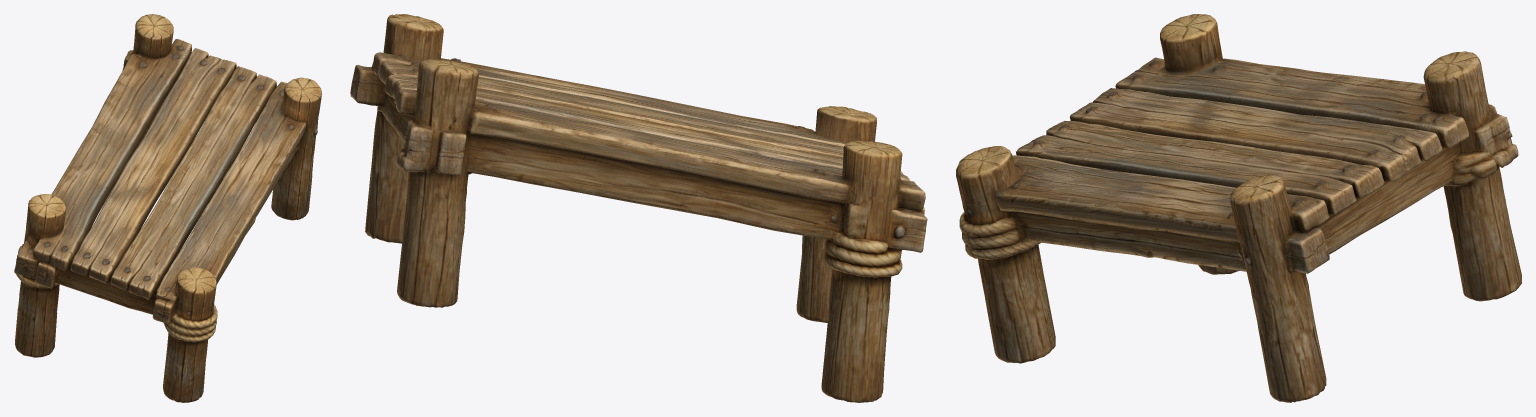
File: dock.glb
The picture shows the model from 3 angles, left to right: view 1: azimuth 30°, elevation 25°; view 2: azimuth 150°, elevation 25°; view 3: azimuth 270°, elevation 25°; orthographic projection. The views are drawn at different scales.
Visible parts, largest first — view 1: tripo_node_40c1cbbf-8aec-4461-b35d-216113ca5d75; view 2: tripo_node_40c1cbbf-8aec-4461-b35d-216113ca5d75; view 3: tripo_node_40c1cbbf-8aec-4461-b35d-216113ca5d75.
Part boxes in pixels (<box>): tripo_node_40c1cbbf-8aec-4461-b35d-216113ca5d75: <box>14,14,321,402</box>; tripo_node_40c1cbbf-8aec-4461-b35d-216113ca5d75: <box>350,14,927,402</box>; tripo_node_40c1cbbf-8aec-4461-b35d-216113ca5d75: <box>956,14,1521,402</box>.
Bounding box in the file's own units: 0.9777 × 0.683 × 0.9241.
Materials: 1 (1 with a texture image).
